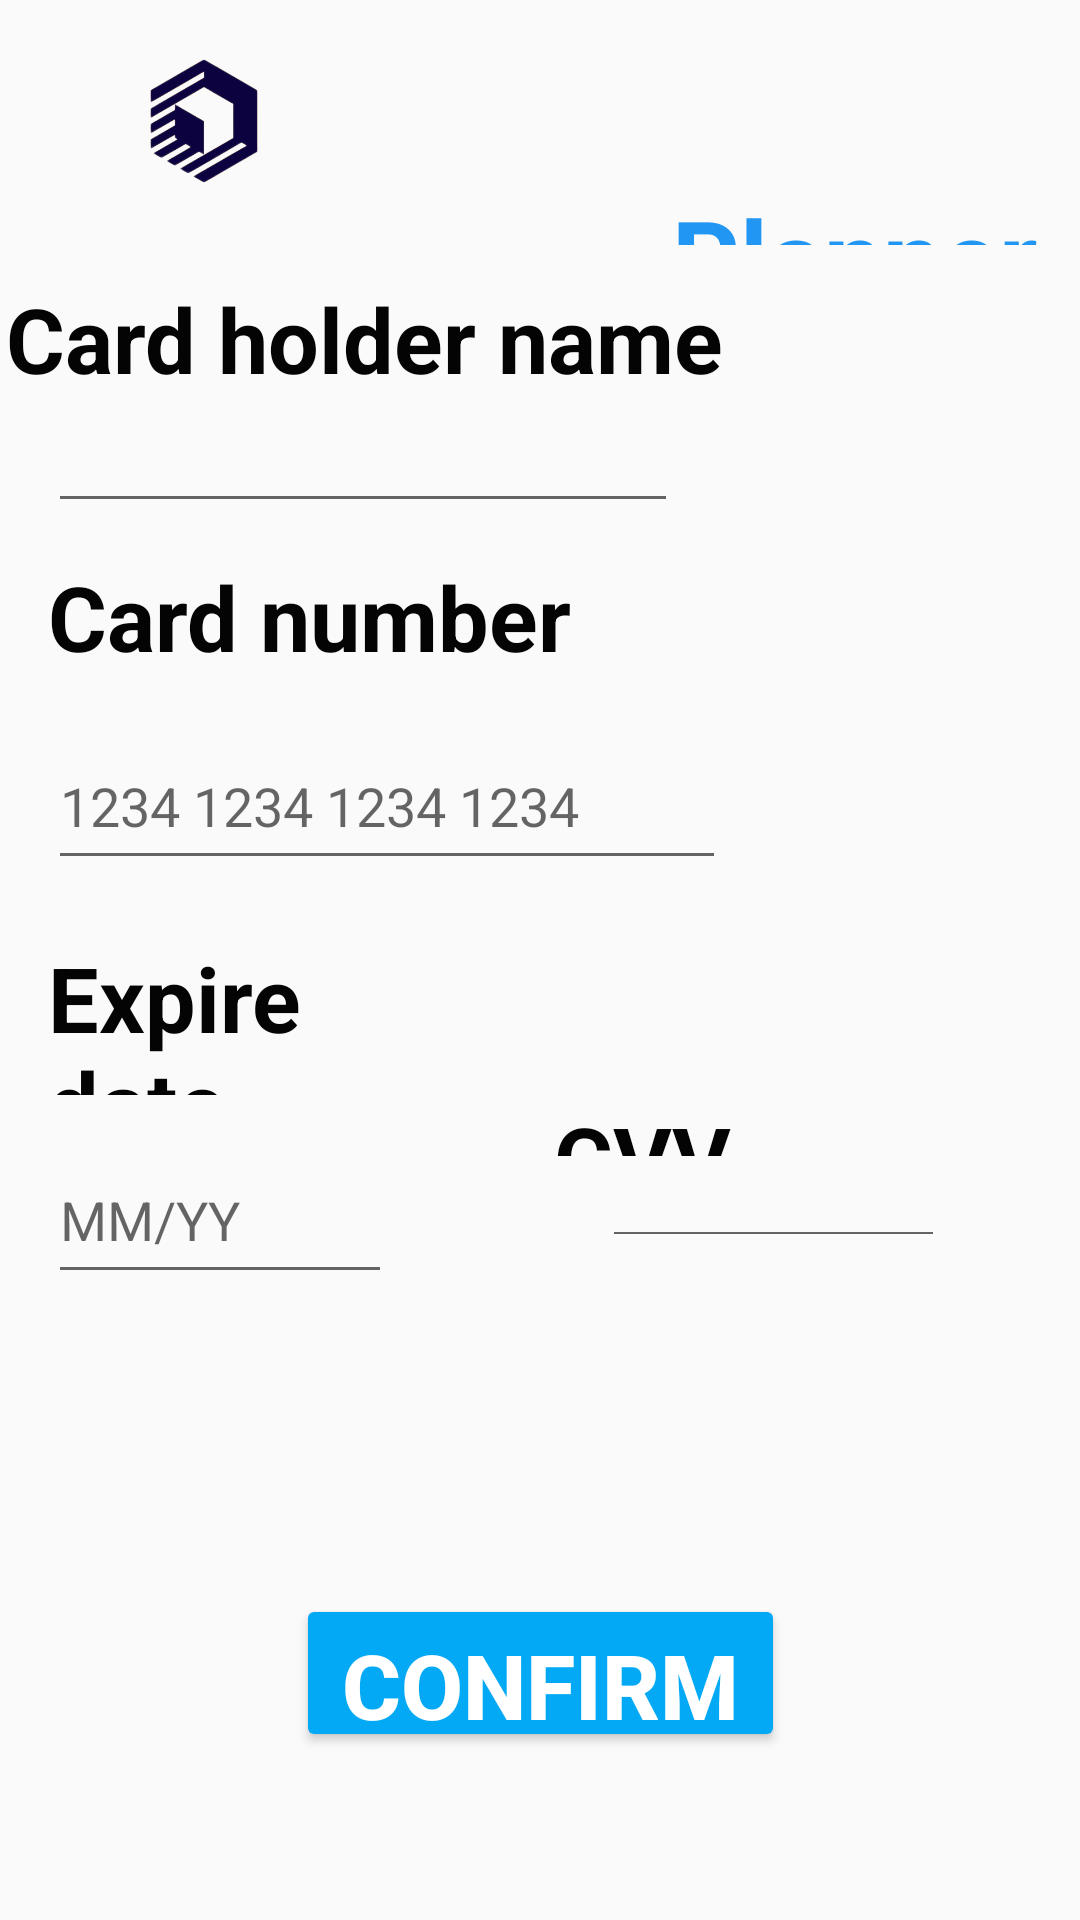

Named icons in this screenshot (1080×1920) and their centers, (x=x, y=y):
cube box: (x=204, y=120)
